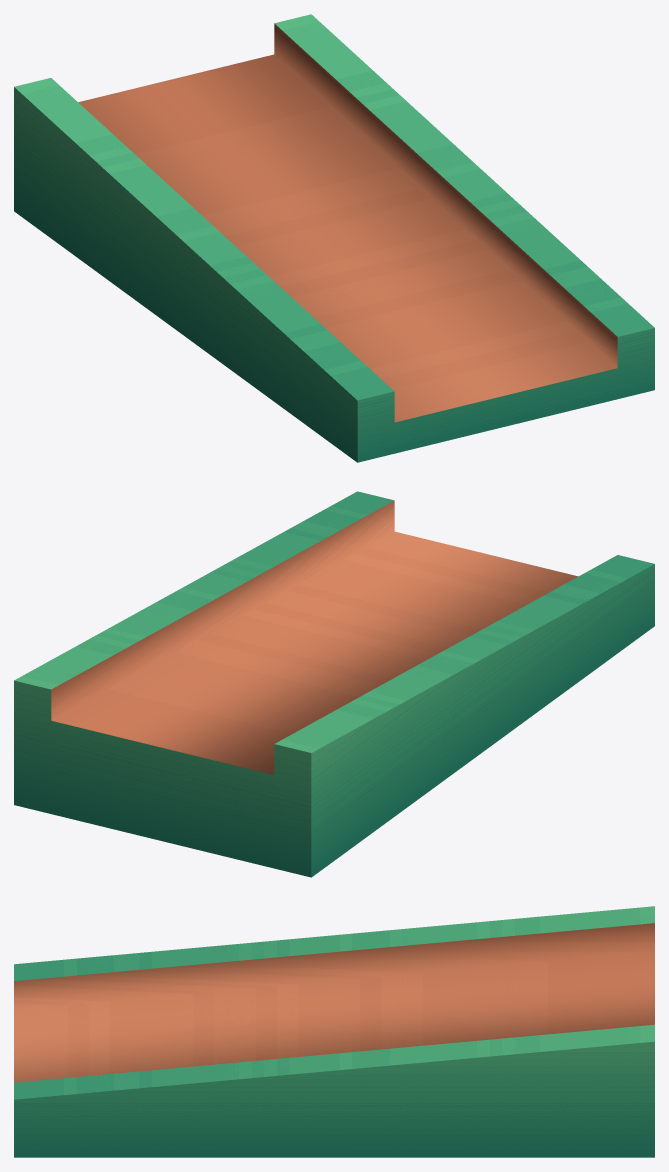
File: tower-defense-kit--tile-straight-slope-large.glb
The picture shows the model from 3 angles, top to bottom: view 1: azimuth 30°, elevation 25°; view 2: azimuth 150°, elevation 25°; view 3: azimuth 270°, elevation 25°; orthographic projection. The views are drawn at different scales.
Visible parts, largest first — view 1: tile-straight-slope-large; view 2: tile-straight-slope-large; view 3: tile-straight-slope-large.
Part boxes in pixels (left/top/right/bottom): tile-straight-slope-large: left=14, top=14, right=654, bottom=462; tile-straight-slope-large: left=14, top=491, right=654, bottom=877; tile-straight-slope-large: left=14, top=906, right=654, bottom=1157.
Size of the model in its own units: 1 by 0.4 by 2.
1 material, 1 textured.
